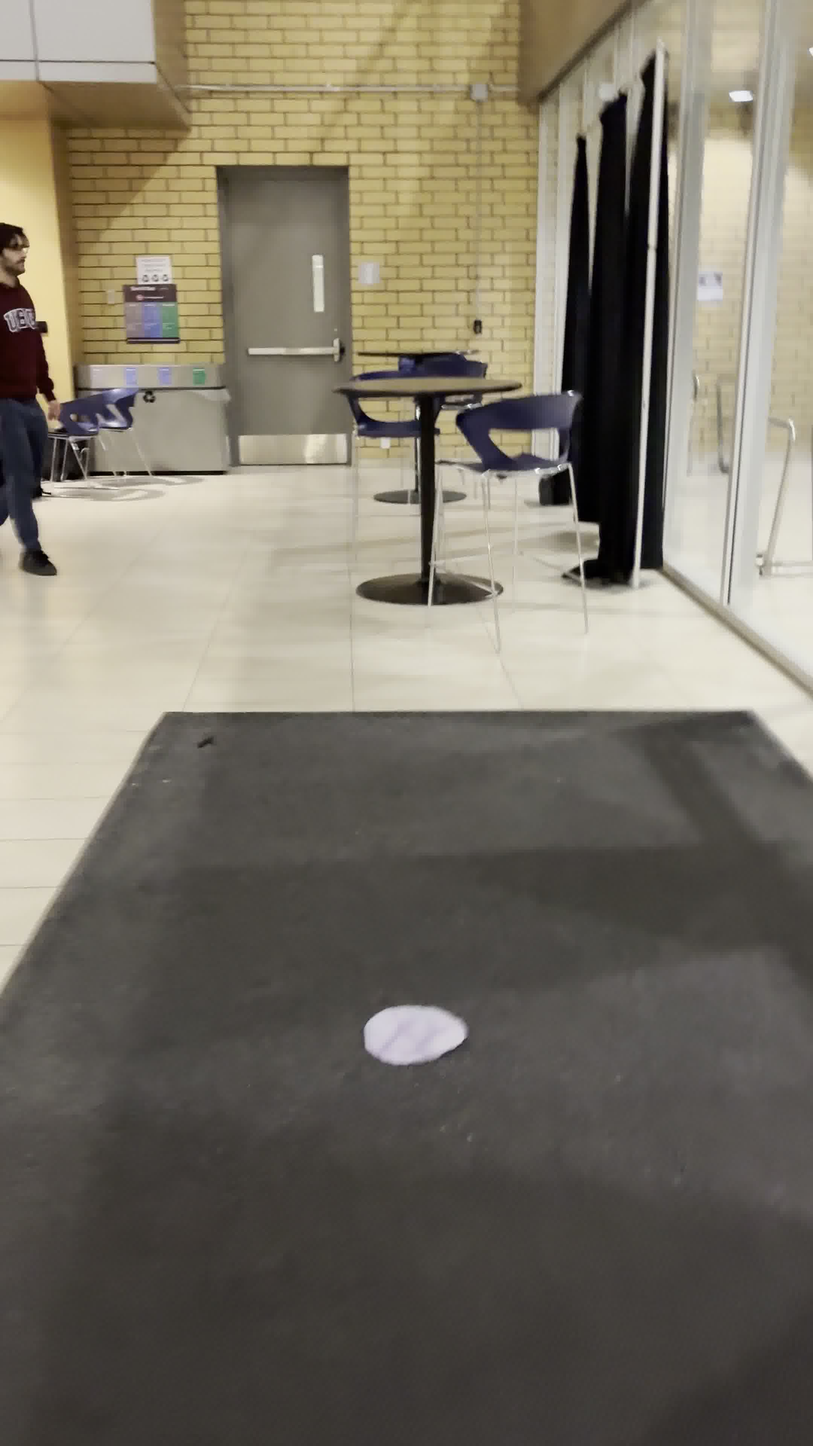Target: (362, 1001, 473, 1067)
